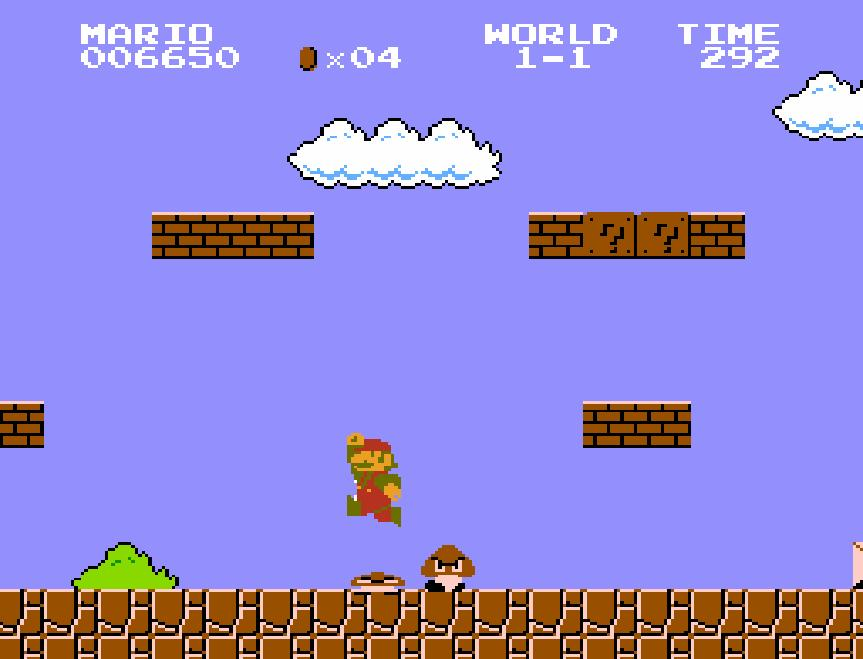big_mario: (345, 431, 403, 529)
